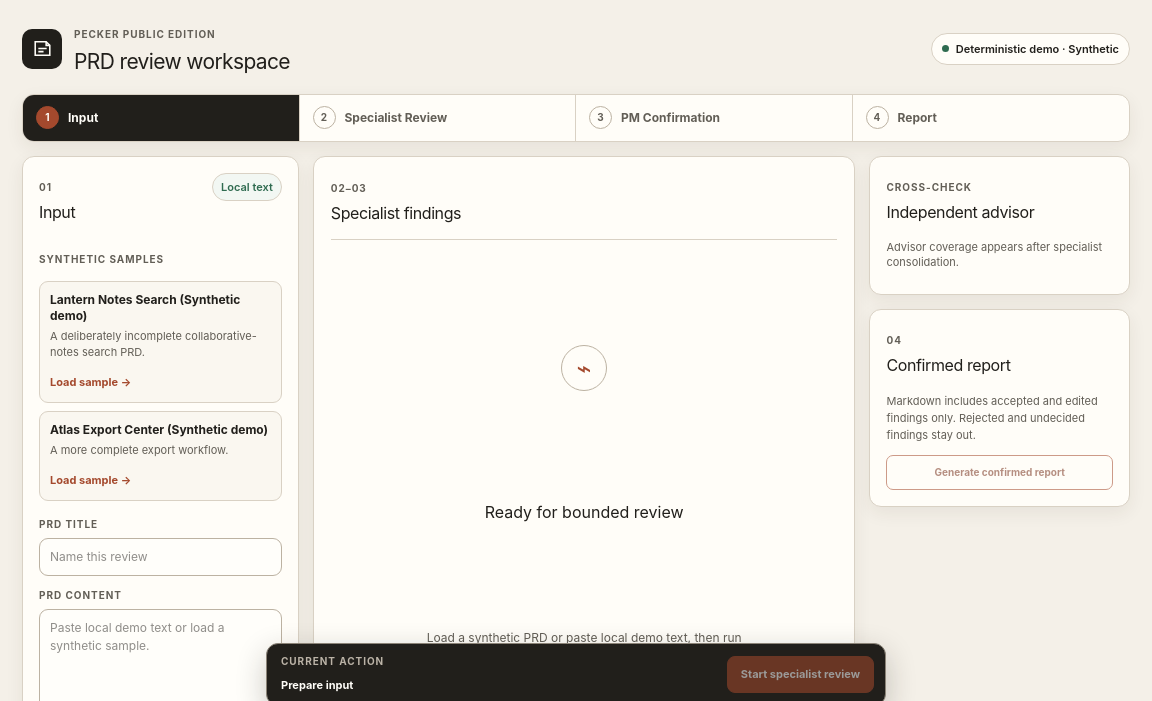
ReviewWorkspace › keeps the PRD available and offers retry after review API failure
This screenshot has width=1152, height=701.
expect the text "Lantern Notes Search (Synthetic demo)" is shown: met, box [50,292,271,324]
Click the button with aria-label "load lantern notes search" at (91, 382), box [50,374,131,390]
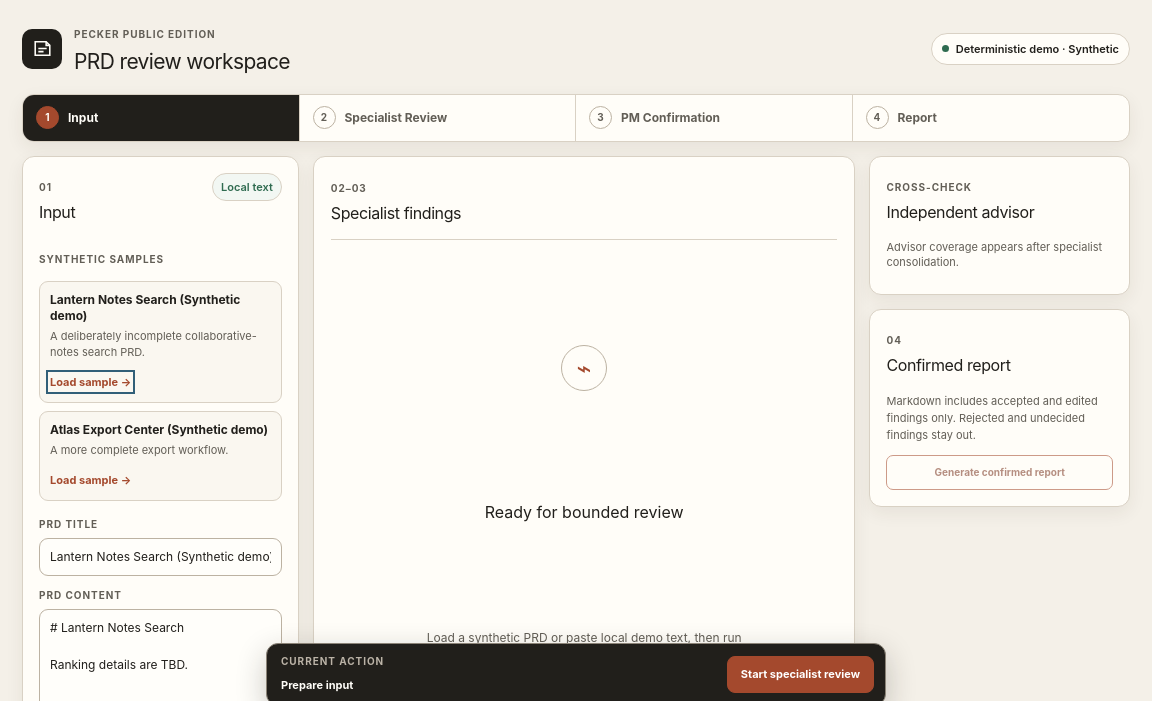
Click the button "Start specialist review" at (800, 675), box [727,656,874,693]
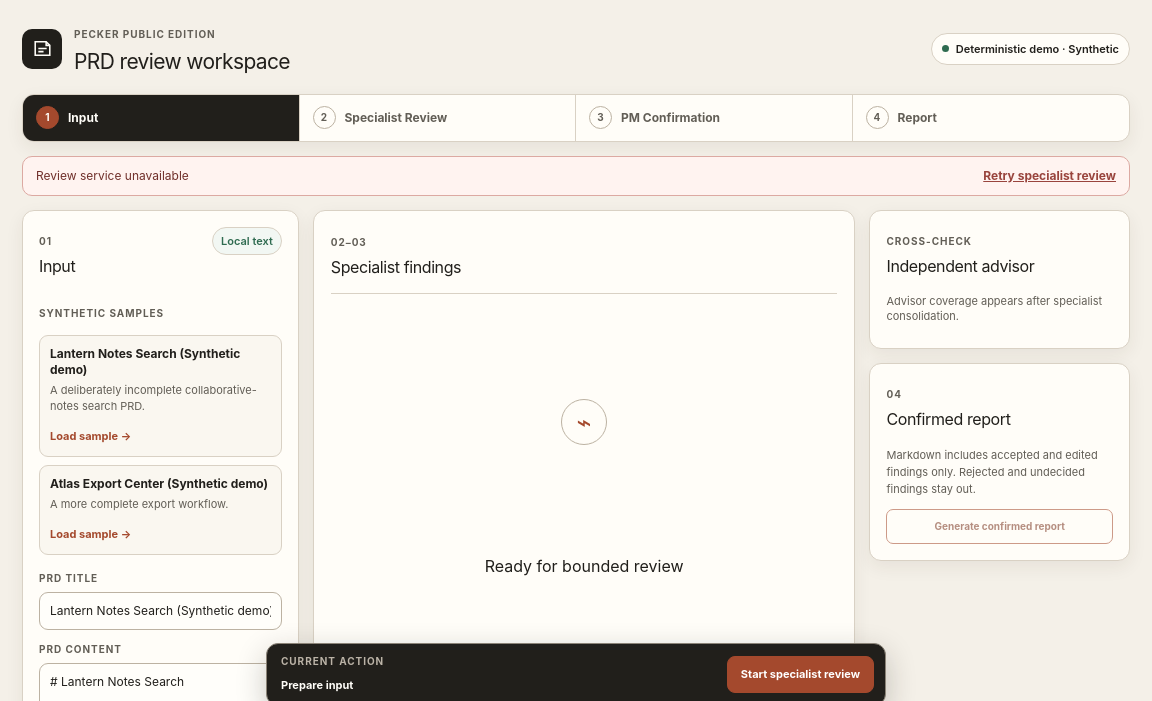
expect the message shows "Review service unavailable": met, box [36,168,189,182]
Click the button "Retry specialist review" at (1050, 176), box [983,166,1116,184]
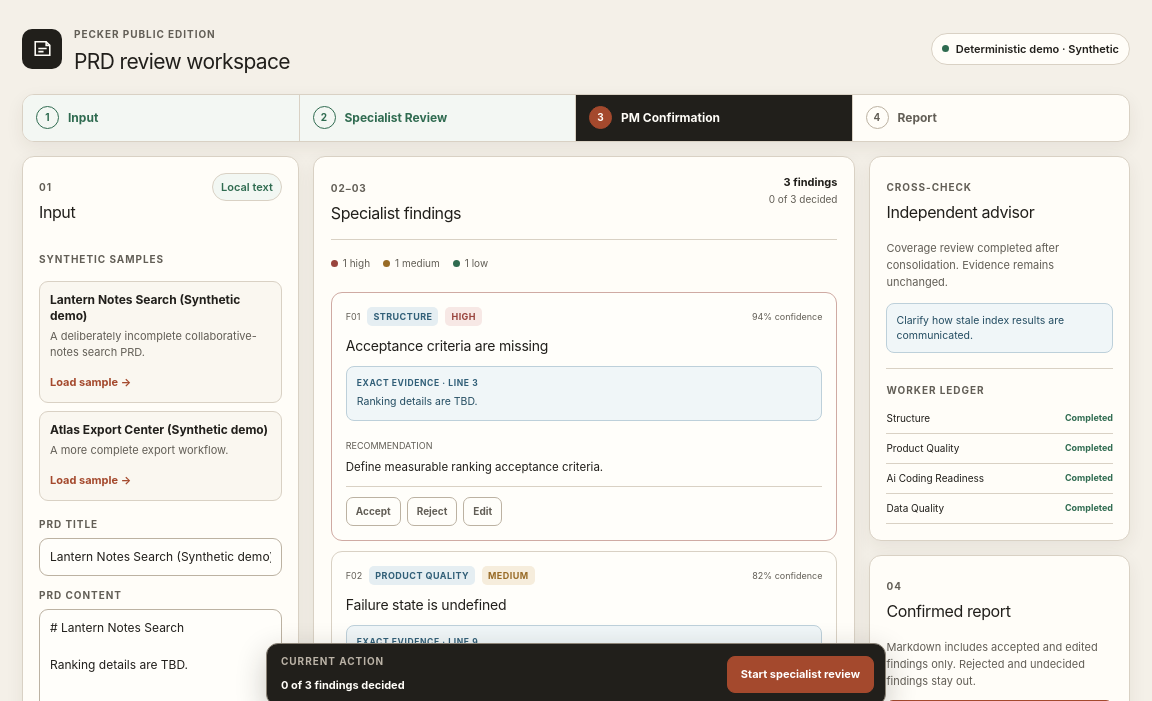
expect the heading "Acceptance criteria are missing" is shown: met, box [346,337,548,354]
